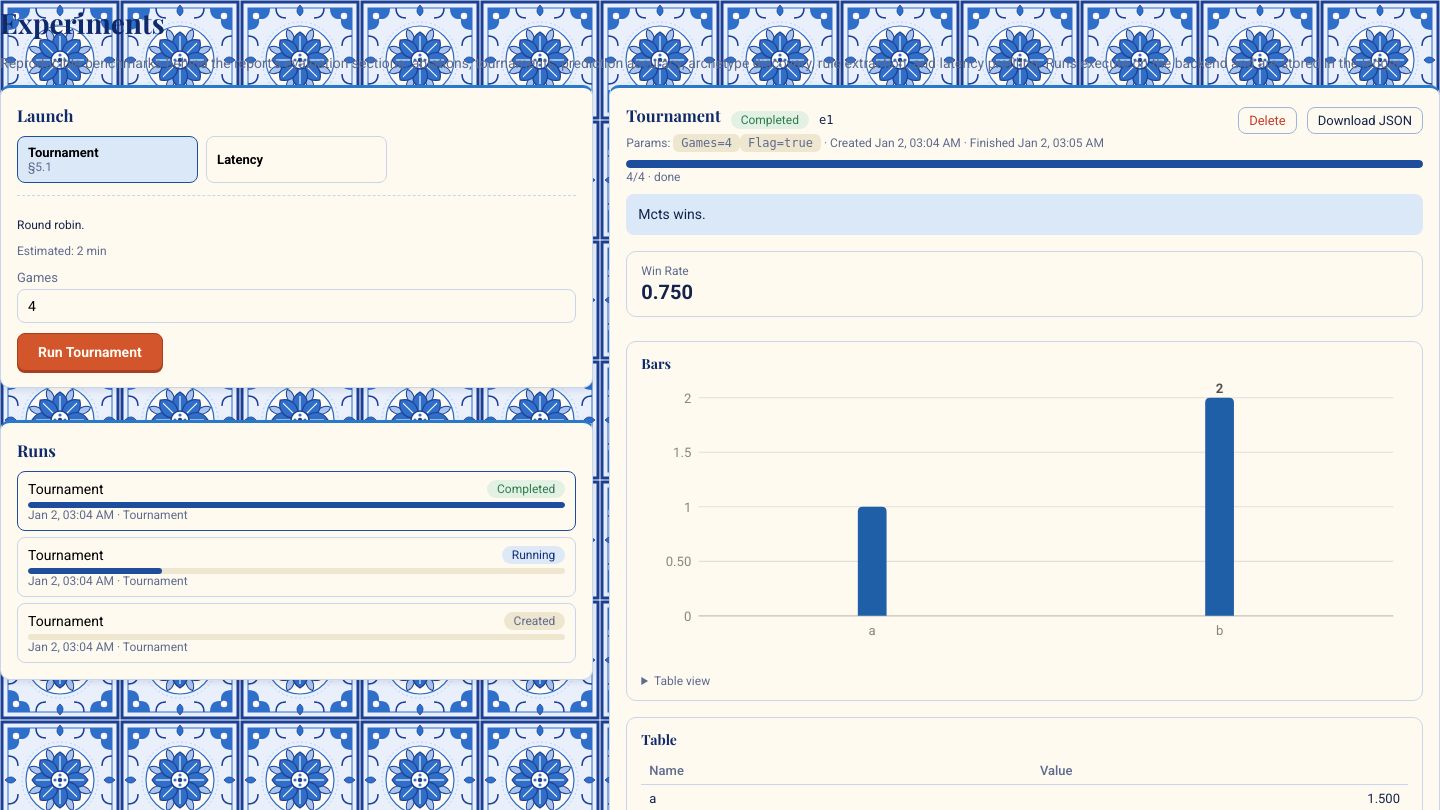
Test: Experiment run detail › shows delete failures
Click the button "Delete".
click(1267, 120)  # box [1238, 106, 1297, 134]
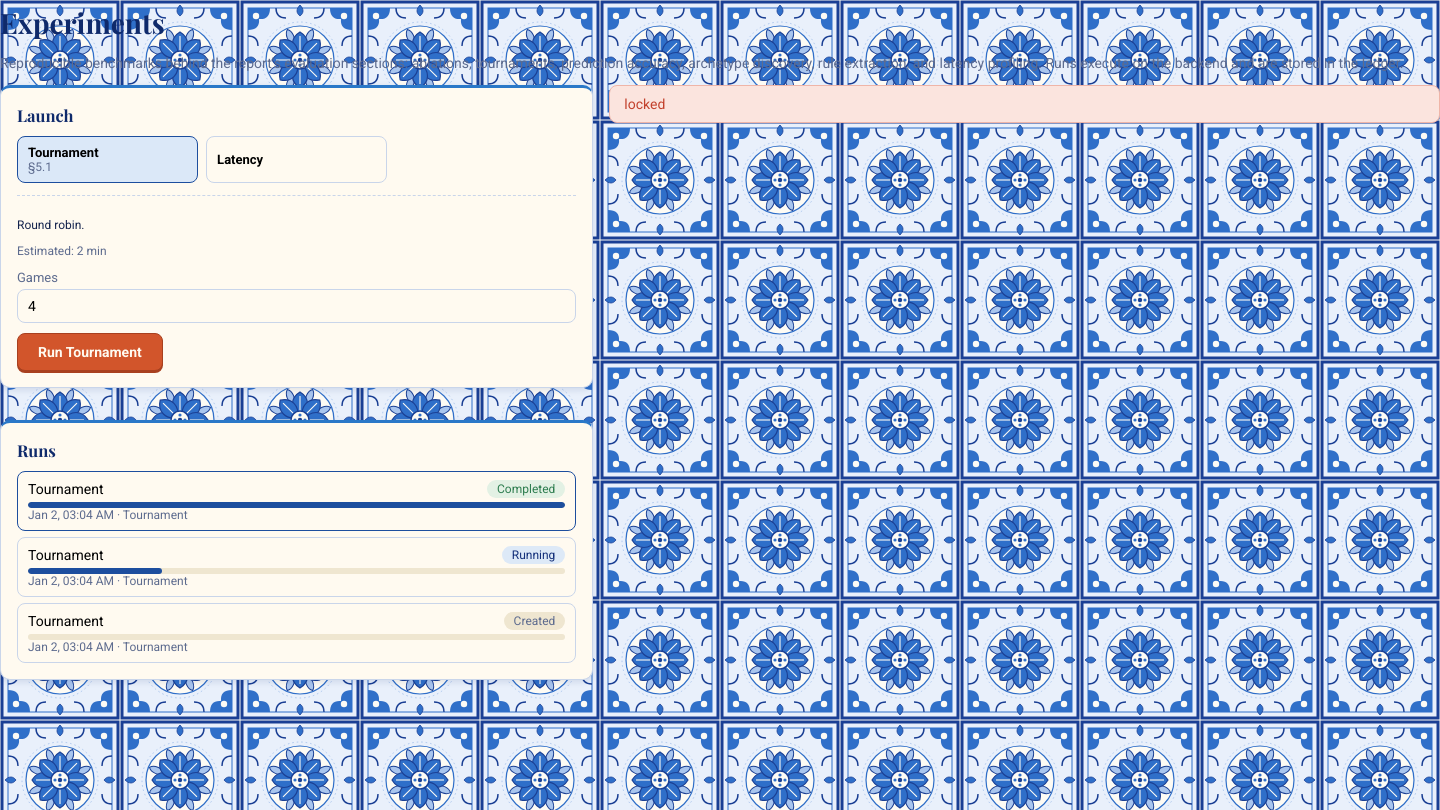
Now the text "locked" is shown, box [609, 85, 1439, 123]
